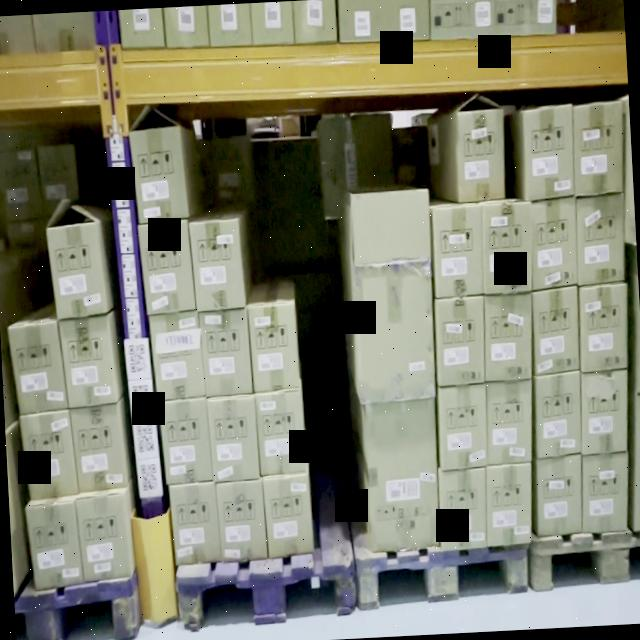box: (365, 402, 438, 548), (358, 270, 431, 394), (10, 319, 68, 413), (132, 130, 190, 220), (62, 315, 116, 409), (48, 230, 107, 316), (436, 295, 488, 385), (26, 502, 80, 587), (574, 102, 623, 194), (70, 409, 123, 494), (524, 110, 574, 198), (152, 318, 206, 399), (435, 206, 484, 294), (140, 228, 192, 309), (529, 202, 579, 286), (78, 494, 127, 579), (484, 205, 532, 291), (22, 410, 73, 490), (202, 318, 252, 399), (437, 392, 488, 470), (459, 113, 503, 203), (580, 287, 628, 369), (534, 294, 582, 376), (194, 223, 240, 306), (578, 202, 628, 278), (161, 404, 211, 480), (220, 480, 269, 556), (265, 480, 313, 556), (208, 400, 256, 476), (258, 392, 304, 471), (250, 309, 297, 386), (484, 470, 534, 542), (486, 298, 532, 376), (485, 385, 532, 459), (536, 378, 580, 457), (438, 474, 484, 546), (174, 486, 218, 559), (584, 375, 628, 446), (540, 459, 582, 527), (585, 460, 626, 529)
